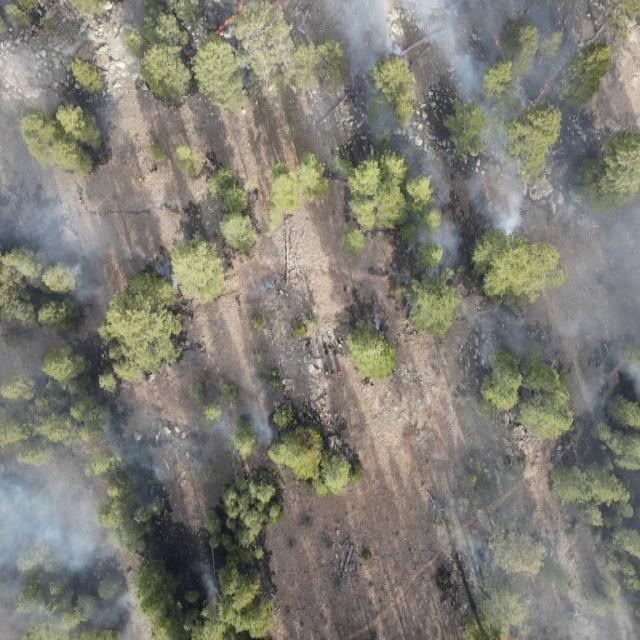fire: (214, 0, 243, 35), (533, 75, 553, 103), (352, 70, 369, 89), (494, 36, 502, 49)
smoke: (328, 0, 640, 405), (0, 0, 110, 304), (0, 344, 112, 640), (446, 511, 640, 640), (110, 384, 268, 481), (109, 586, 157, 640), (118, 248, 178, 290), (244, 264, 282, 304), (193, 566, 222, 612)
